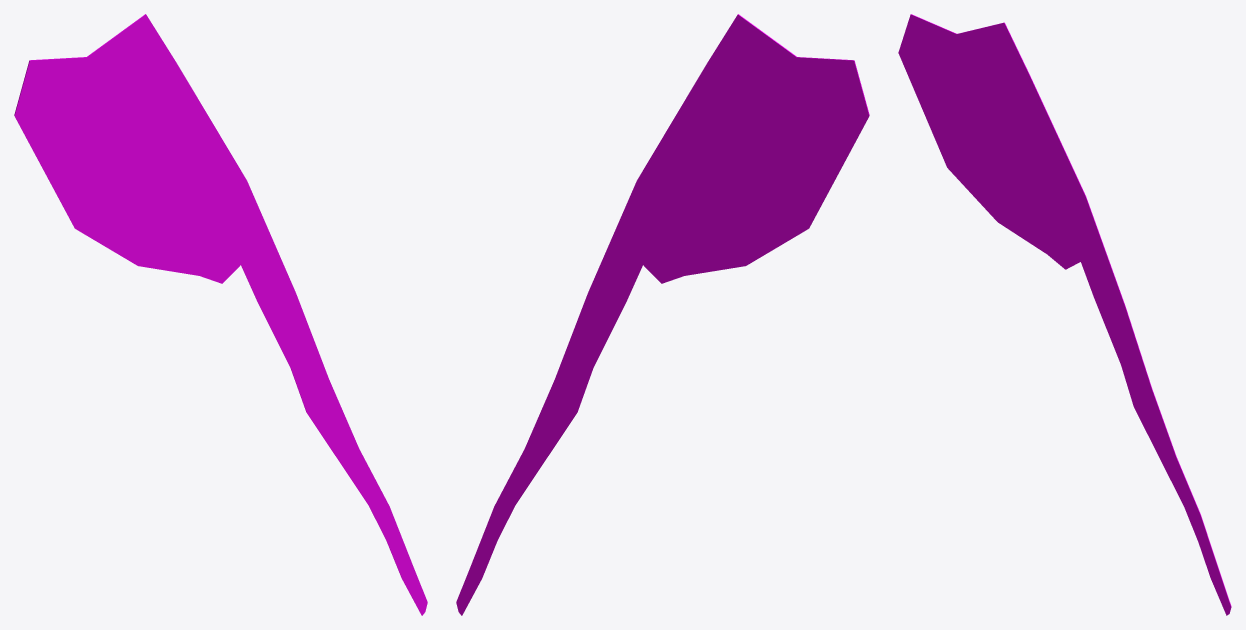
3 views of the same model, side by side, from view 1: azimuth 30°, elevation 25°; view 2: azimuth 150°, elevation 25°; view 3: azimuth 330°, elevation 25° (orthographic). The views are drawn at different scales.
Visible parts, largest first — view 1: Group__Geometry_0; view 2: Group__Geometry_0; view 3: Group__Geometry_0.
Boxes of the visible parts, x1,y1,x2,y2 form: Group__Geometry_0: [14, 14, 427, 615]; Group__Geometry_0: [456, 14, 869, 615]; Group__Geometry_0: [898, 14, 1231, 615].
Bounding box in the file's own units: 2151 × 3328 × 5.
